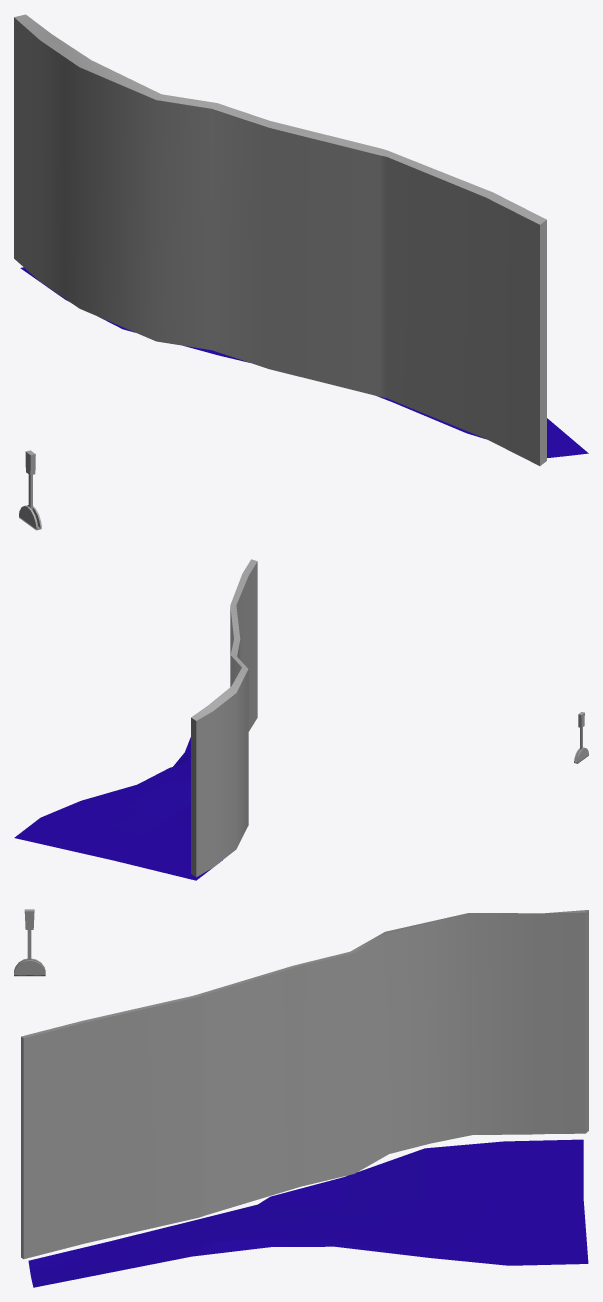
File: water liver.fbx
3 renders of one model, top to bottom at view 1: azimuth 30°, elevation 25°; view 2: azimuth 150°, elevation 25°; view 3: azimuth 270°, elevation 25°, orthographic. The views are drawn at different scales.
Parts seen in each view (by area): view 1: wall_mesh, water; view 2: wall_mesh, water; view 3: wall_mesh, water, pCylinder3.
Boxes of the visible parts, bbox=[...] form: wall_mesh: bbox=[14, 14, 546, 465]; water: bbox=[20, 267, 588, 457]; wall_mesh: bbox=[191, 559, 257, 877]; water: bbox=[14, 737, 222, 880]; wall_mesh: bbox=[21, 910, 588, 1259]; water: bbox=[28, 1139, 588, 1287]; pCylinder3: bbox=[14, 958, 45, 976].
Bounding box in the file's own units: 2080 × 976 × 1965.
